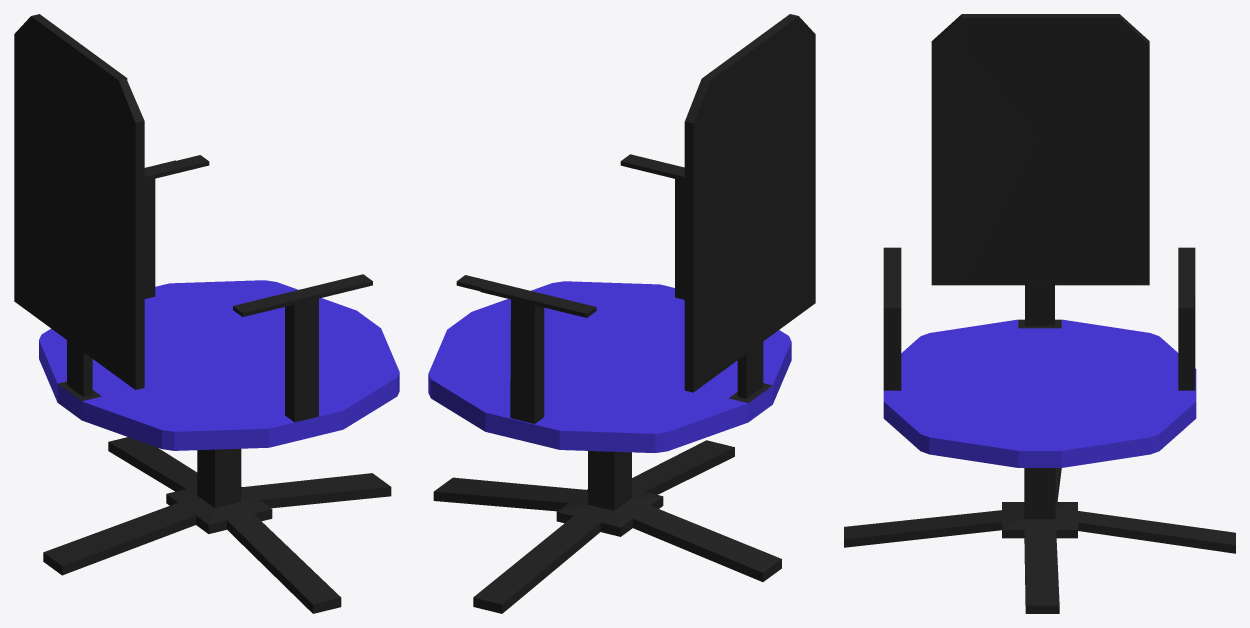
File: Office Chair-blue.glb
3 renders of one model, left to right at view 1: azimuth 30°, elevation 25°; view 2: azimuth 150°, elevation 25°; view 3: azimuth 270°, elevation 25°, orthographic. The views are drawn at different scales.
Parts seen in each view (by area): view 1: Cube; view 2: Cube; view 3: Cube.
Part boxes in pixels (bbox=[...]): Cube: bbox=[14, 14, 399, 613]; Cube: bbox=[428, 14, 815, 613]; Cube: bbox=[844, 14, 1235, 613].
Size of the model in its own units: 1.74 by 2.62 by 2.
